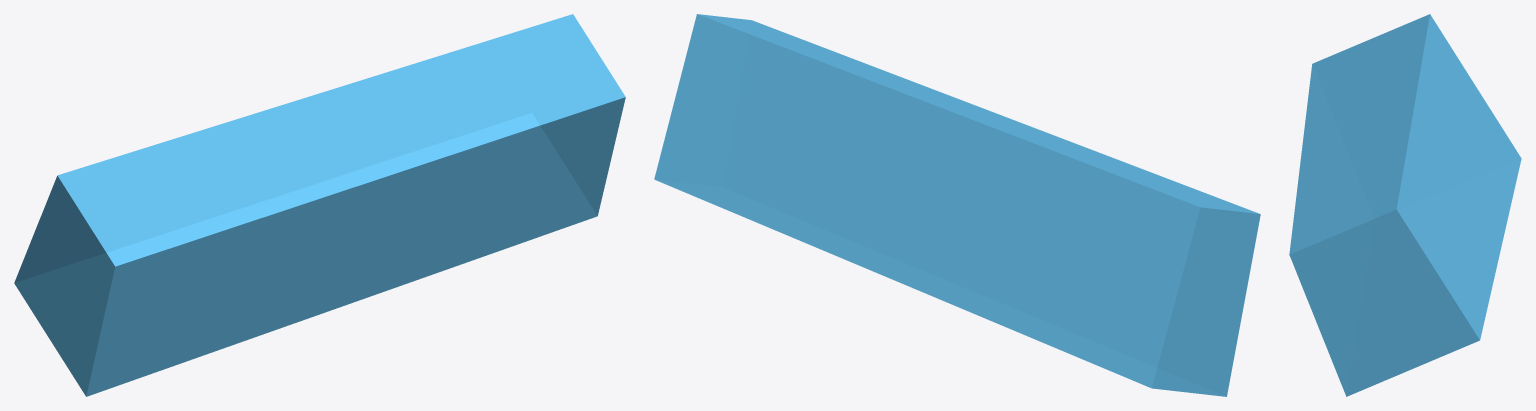
File: Event_421115418_HErechit_28.fbx
The picture shows the model from 3 angles, left to right: view 1: azimuth 30°, elevation 25°; view 2: azimuth 150°, elevation 25°; view 3: azimuth 270°, elevation 25°; orthographic projection. The views are drawn at different scales.
Visible parts, largest first — view 1: Model; view 2: Model; view 3: Model.
Part boxes in pixels (x1,y1,x2,y2): Model: (14,14,625,396); Model: (654,14,1260,396); Model: (1289,14,1521,396).
Bounding box in the file's own units: 1 × 0.4864 × 0.3965.
